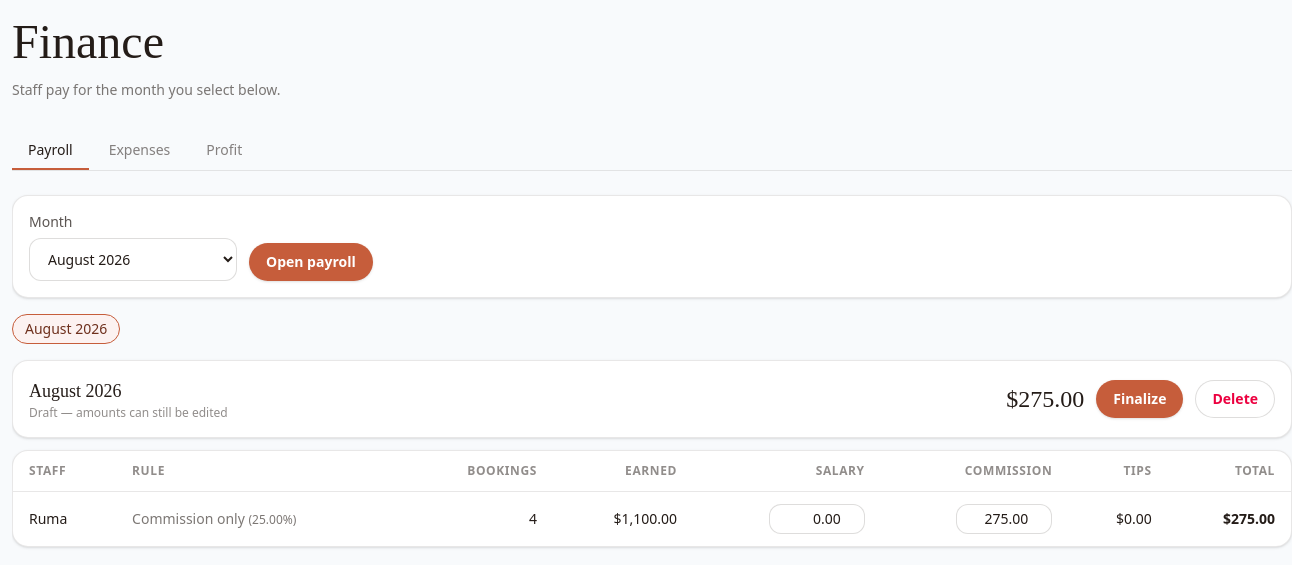
Test: FinanceView — Payroll tab › shows only the payroll section on the payroll tab, and switches away when another tab is clicked
Click the button "Expenses": click(140, 151) [93,132,186,170]
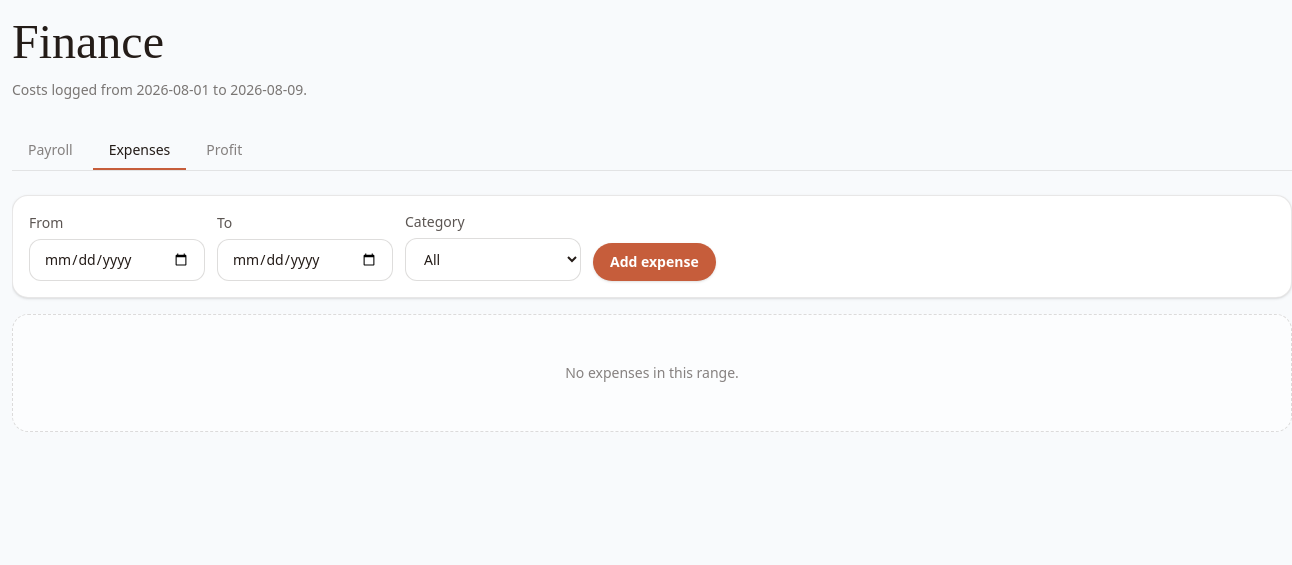
Check: the text "Open payroll" is gone
Check: the text "Ruma" is gone
